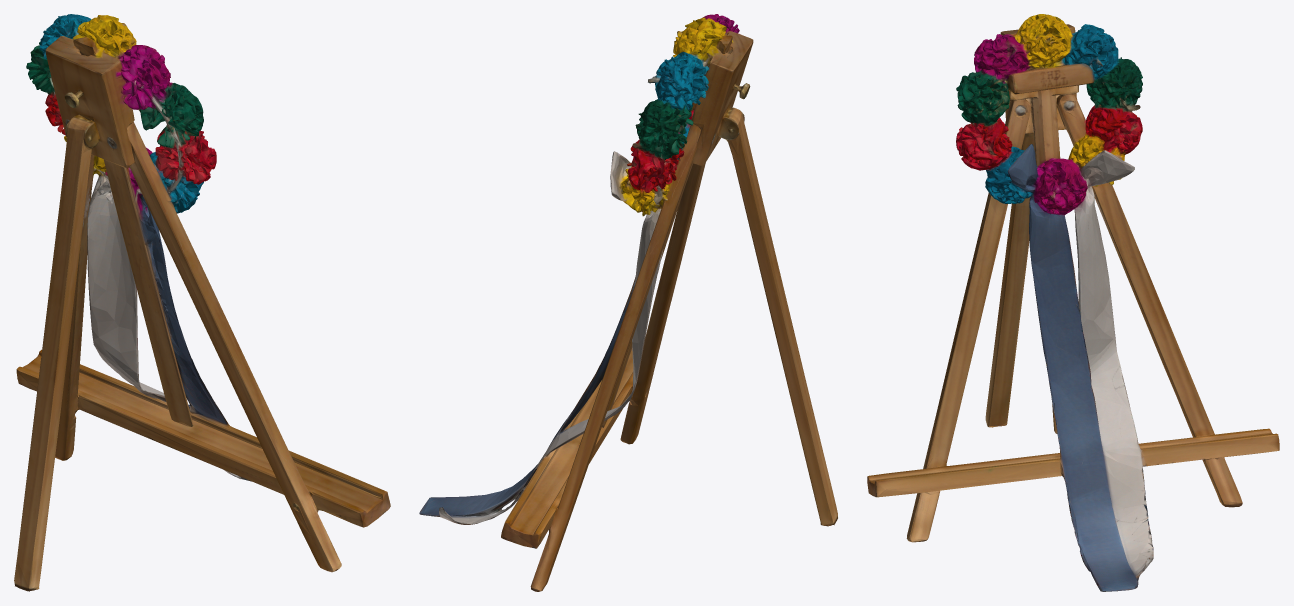
Rendered from 93447725-D165-3442-895F-D90039099DAB_2k.glb.
3 views of the same model, side by side, from view 1: azimuth 30°, elevation 25°; view 2: azimuth 150°, elevation 25°; view 3: azimuth 270°, elevation 25° (orthographic). The views are drawn at different scales.
Parts seen in each view (by area): view 1: Pfingstrosenkranz Bunt_42k_2k; view 2: Pfingstrosenkranz Bunt_42k_2k; view 3: Pfingstrosenkranz Bunt_42k_2k.
Part boxes in pixels (box(x1,y1,x2,y2)): Pfingstrosenkranz Bunt_42k_2k: box(14, 14, 390, 591); Pfingstrosenkranz Bunt_42k_2k: box(419, 14, 837, 591); Pfingstrosenkranz Bunt_42k_2k: box(867, 14, 1279, 591).
Bounding box in the file's own units: 0.3532 × 0.4955 × 0.3952.
1 material, 1 textured.
